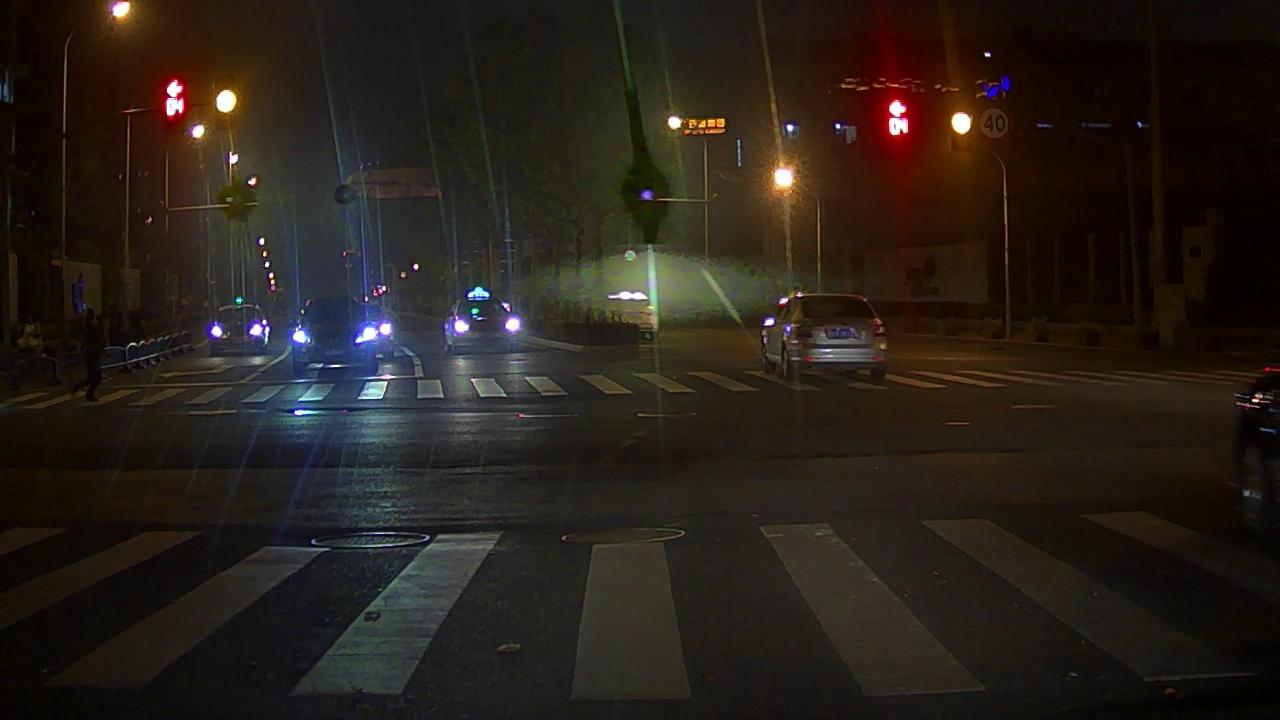traffic_light: (886, 98, 912, 156), (214, 75, 239, 126), (166, 75, 185, 127), (952, 99, 971, 150)
